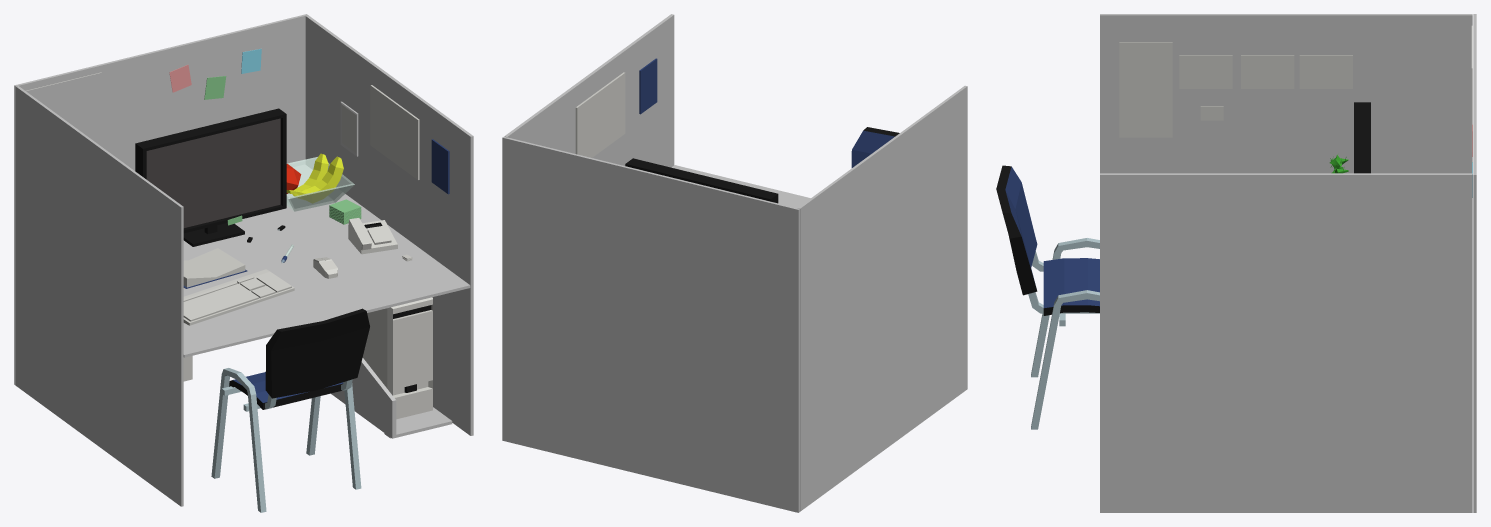
The picture shows the model from 3 angles, left to right: view 1: azimuth 30°, elevation 25°; view 2: azimuth 150°, elevation 25°; view 3: azimuth 270°, elevation 25°; orthographic projection. The views are drawn at different scales.
Parts seen in each view (by area): view 1: office; view 2: office; view 3: office.
Boxes of the visible parts, x1,y1,x2,y2 form: office: (14, 14, 473, 512); office: (502, 14, 967, 512); office: (996, 14, 1476, 512).
Bounding box in the file's own units: 0.1489 × 0.1457 × 0.1877.
